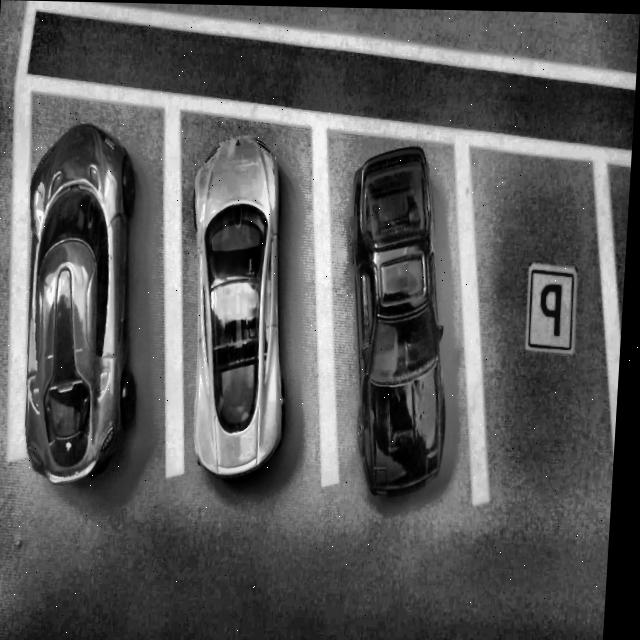car: (18, 123, 153, 487), (338, 144, 464, 498), (182, 135, 302, 479)
